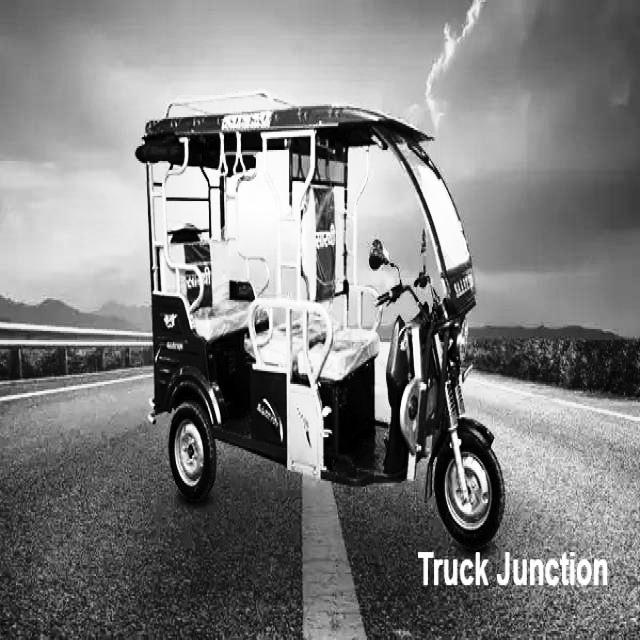Toto: (139, 90, 503, 544)
